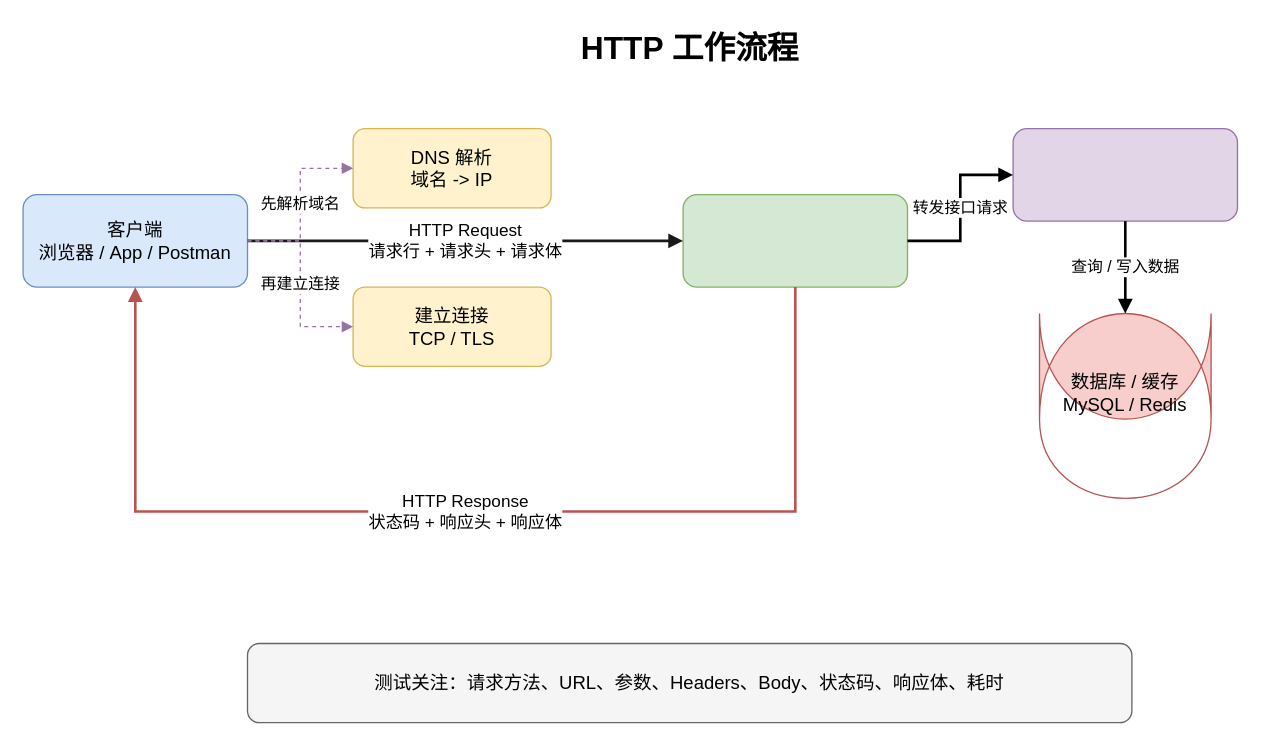
Some shapes in this 1261 by 746 pixel diagram are drawn without their labels. The shapes that lost their labels are listed below. From the top down, each one's centre as x and y in pixels, then its label:
At point (1125, 174): "业务服务 Controller / Service".
At point (795, 240): "Web 服务器 Nginx / 网关".
